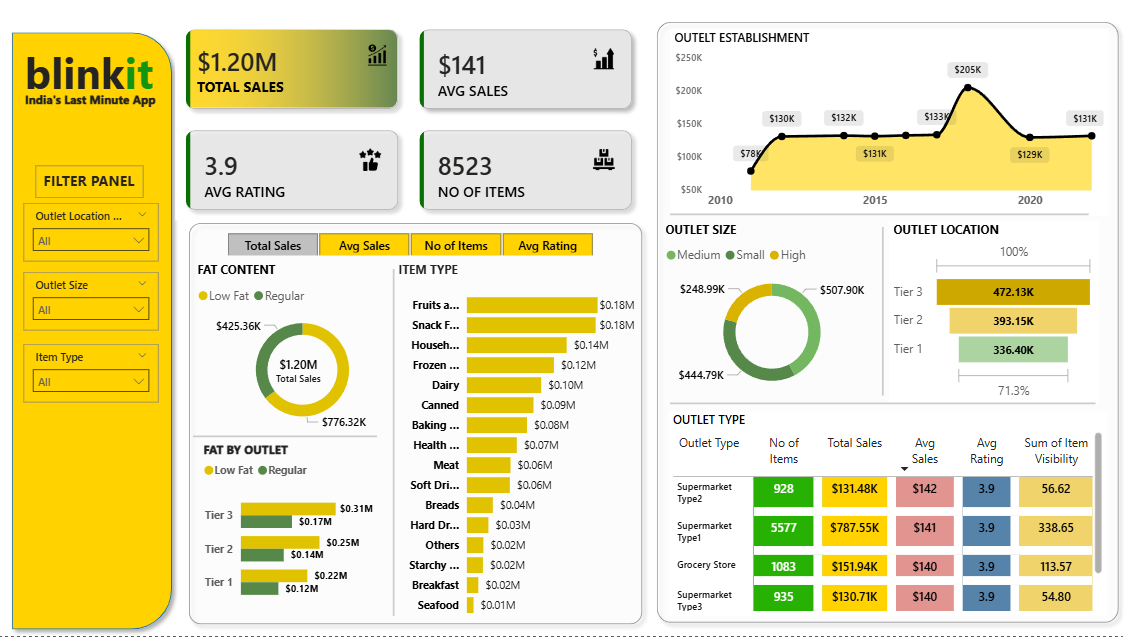

What the dashboard file says about the page in this screenshot:
{"tool":"powerbi","page":{"name":"Dashboard","canvas":[1280,720],"ordinal":0},"visuals":[{"type":"shape","box":[9.9,28.2,198.8,692.4],"z":0},{"type":"shape","box":[209.5,244.4,530.2,471.4],"z":1000},{"type":"cardVisual","fields":{"Data":["BlinkIT Grocery Data.Total Sales","BlinkIT Grocery Data.Avg Sales","BlinkIT Grocery Data.Avg Rating","BlinkIT Grocery Data.No of Items"]},"box":[198.4,17.5,538.1,239.7],"z":2000},{"type":"slicer","fields":{"Values":["Metrices.Metrices"]},"box":[236.5,257.1,461.9,31.7],"z":3000},{"type":"donutChart","title":"FAT CONTENT","fields":{"Y":["BlinkIT Grocery Data.Total Sales"],"Category":["BlinkIT Grocery Data.Item Fat Content"]},"box":[223.3,296.7,246.7,196.7],"z":4000},{"type":"cardVisual","fields":{"Data":["BlinkIT Grocery Data.Total Sales"]},"box":[290,375,106.7,91.7],"z":5000},{"type":"textbox","box":[28.2,44.7,180.6,79.5],"z":6000},{"type":"textbox","box":[28.2,97.7,170.6,51.4],"z":7000},{"type":"clusteredBarChart","title":"FAT BY OUTLET","fields":{"Y":["BlinkIT Grocery Data.Total Sales"],"Category":["BlinkIT Grocery Data.Outlet Location Type"],"Series":["BlinkIT Grocery Data.Item Fat Content"]},"box":[230,500,201.7,195],"z":8000},{"type":"shape","box":[223.8,471.4,207.9,46],"z":9000},{"type":"shape","box":[431.7,304.8,36.5,392.1],"z":10000},{"type":"barChart","title":"ITEM TYPE","fields":{"Y":["BlinkIT Grocery Data.Total Sales"],"Category":["BlinkIT Grocery Data.Item Type"]},"box":[450.8,296.8,276.2,411.1],"z":11000},{"type":"shape","box":[739.7,17.5,539.7,696.8],"z":12000},{"type":"lineChart","title":"OUTELT ESTABLISHMENT","fields":{"Y":["BlinkIT Grocery Data.Total Sales"],"Category":["BlinkIT Grocery Data.Outlet Establishment Year"]},"box":[763.5,33.3,495.2,211.1],"z":13000},{"type":"donutChart","title":"OUTLET SIZE","fields":{"Y":["BlinkIT Grocery Data.Total Sales"],"Category":["BlinkIT Grocery Data.Outlet Size"]},"box":[753.3,250,250,203.3],"z":14000},{"type":"shape","box":[763.5,220.6,473,46],"z":15000},{"type":"shape","box":[988.9,257.1,30.2,190.5],"z":16000},{"type":"funnel","title":"OUTLET LOCATION","fields":{"Y":["Sum(BlinkIT Grocery Data.Sales)"],"Category":["BlinkIT Grocery Data.Outlet Location Type"]},"box":[1010,250,236.7,206.7],"z":17000},{"type":"shape","box":[763.5,433.3,481,46],"z":18000},{"type":"pivotTable","title":"OUTLET TYPE","fields":{"Values":["BlinkIT Grocery Data.No of Items","BlinkIT Grocery Data.Total Sales","BlinkIT Grocery Data.Avg Sales","BlinkIT Grocery Data.Avg Rating","Sum(BlinkIT Grocery Data.Item Visibility)"],"Rows":["BlinkIT Grocery Data.Outlet Type"]},"box":[761.7,466.7,495,230],"z":19000},{"type":"slicer","fields":{"Values":["BlinkIT Grocery Data.Outlet Location Type"]},"box":[31.5,230.3,152.4,66.3],"z":20000},{"type":"slicer","fields":{"Values":["BlinkIT Grocery Data.Outlet Size"]},"box":[31.5,308.1,152.4,66.3],"z":21000},{"type":"slicer","fields":{"Values":["BlinkIT Grocery Data.Item Type"]},"box":[31.5,389.3,152.4,66.3],"z":22000},{"type":"textbox","box":[45,188.3,121.7,36.7],"z":23000}]}

Visuals, with their boxes in screenshot pixels (x1, y1, x2, y2), scaled from the page's 1280x720 canvas onto the 1126x637 screenshot:
shape: bbox=(9, 25, 184, 636)
shape: bbox=(184, 216, 651, 633)
cardVisual - BlinkIT Grocery Data.Total Sales x BlinkIT Grocery Data.Avg Sales: bbox=(175, 15, 648, 228)
slicer - Metrices.Metrices: bbox=(208, 227, 614, 256)
"FAT CONTENT" donutChart: bbox=(196, 262, 413, 437)
cardVisual - BlinkIT Grocery Data.Total Sales: bbox=(255, 332, 349, 413)
textbox: bbox=(25, 40, 184, 110)
textbox: bbox=(25, 86, 175, 132)
"FAT BY OUTLET" clusteredBarChart: bbox=(202, 442, 380, 615)
shape: bbox=(197, 417, 380, 458)
shape: bbox=(380, 270, 412, 617)
"ITEM TYPE" barChart: bbox=(397, 263, 640, 626)
shape: bbox=(651, 15, 1125, 632)
"OUTELT ESTABLISHMENT" lineChart: bbox=(672, 29, 1107, 216)
"OUTLET SIZE" donutChart: bbox=(663, 221, 883, 401)
shape: bbox=(672, 195, 1088, 236)
shape: bbox=(870, 227, 896, 396)
"OUTLET LOCATION" funnel: bbox=(888, 221, 1097, 404)
shape: bbox=(672, 383, 1095, 424)
"OUTLET TYPE" pivotTable: bbox=(670, 413, 1106, 616)
slicer - BlinkIT Grocery Data.Outlet Location Type: bbox=(28, 204, 162, 262)
slicer - BlinkIT Grocery Data.Outlet Size: bbox=(28, 273, 162, 331)
slicer - BlinkIT Grocery Data.Item Type: bbox=(28, 344, 162, 403)
textbox: bbox=(40, 167, 147, 199)
